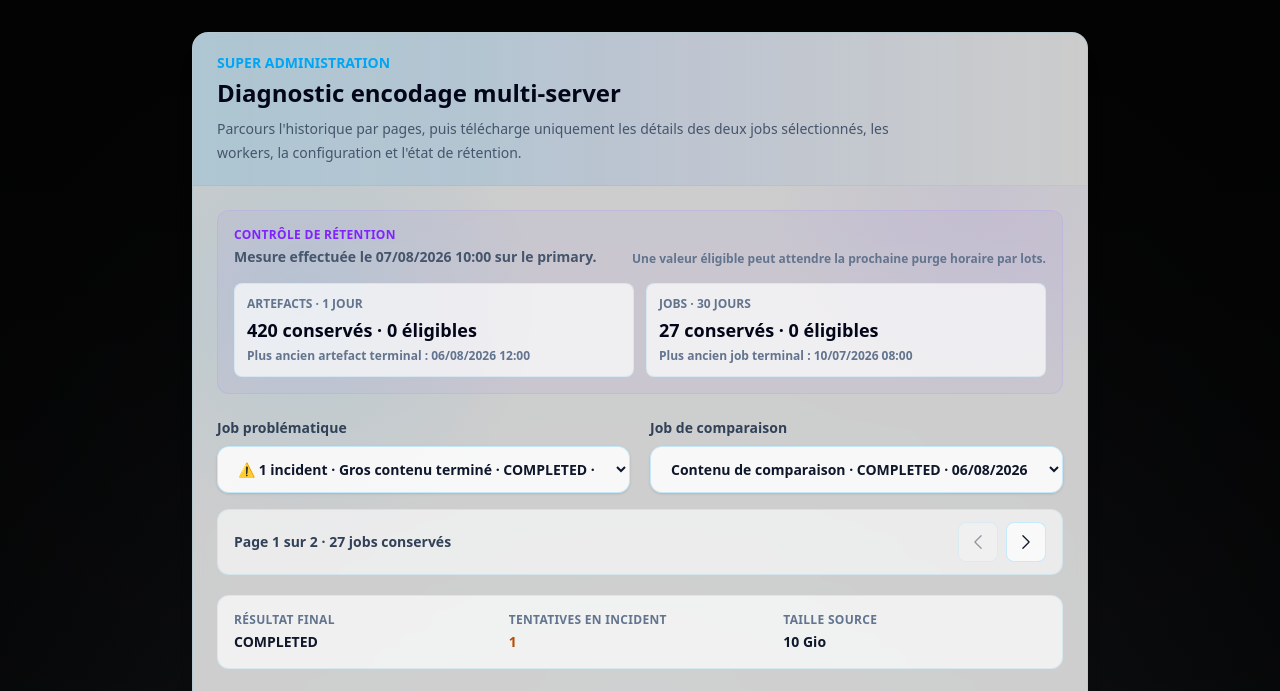
Test: AdminDistributedEncodingDiagnostics › navigue entre les pages sans perdre les deux sélections
Check: the text "Page 1 sur 2 · 27 jobs conservés" is shown, box [234, 532, 451, 552]
Click the button named "Page suivante". click: (1026, 542)
box: [1006, 522, 1046, 562]
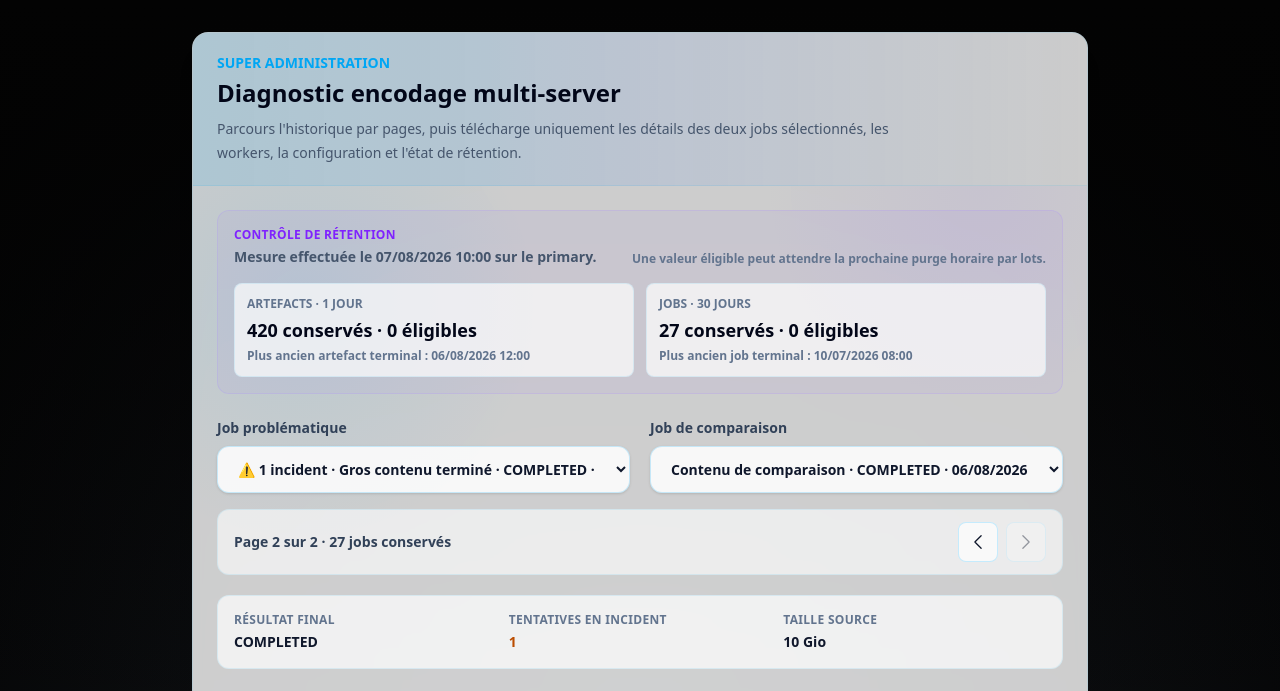
Check: the dropdown labelled "Job problématique" shows "⚠ 1 incident · Gros contenu terminé · COMPLETED · 07/08/2026 08:00", box [217, 446, 630, 493]
Check: the text "Page 2 sur 2 · 27 jobs conservés" is shown, box [234, 532, 451, 552]
